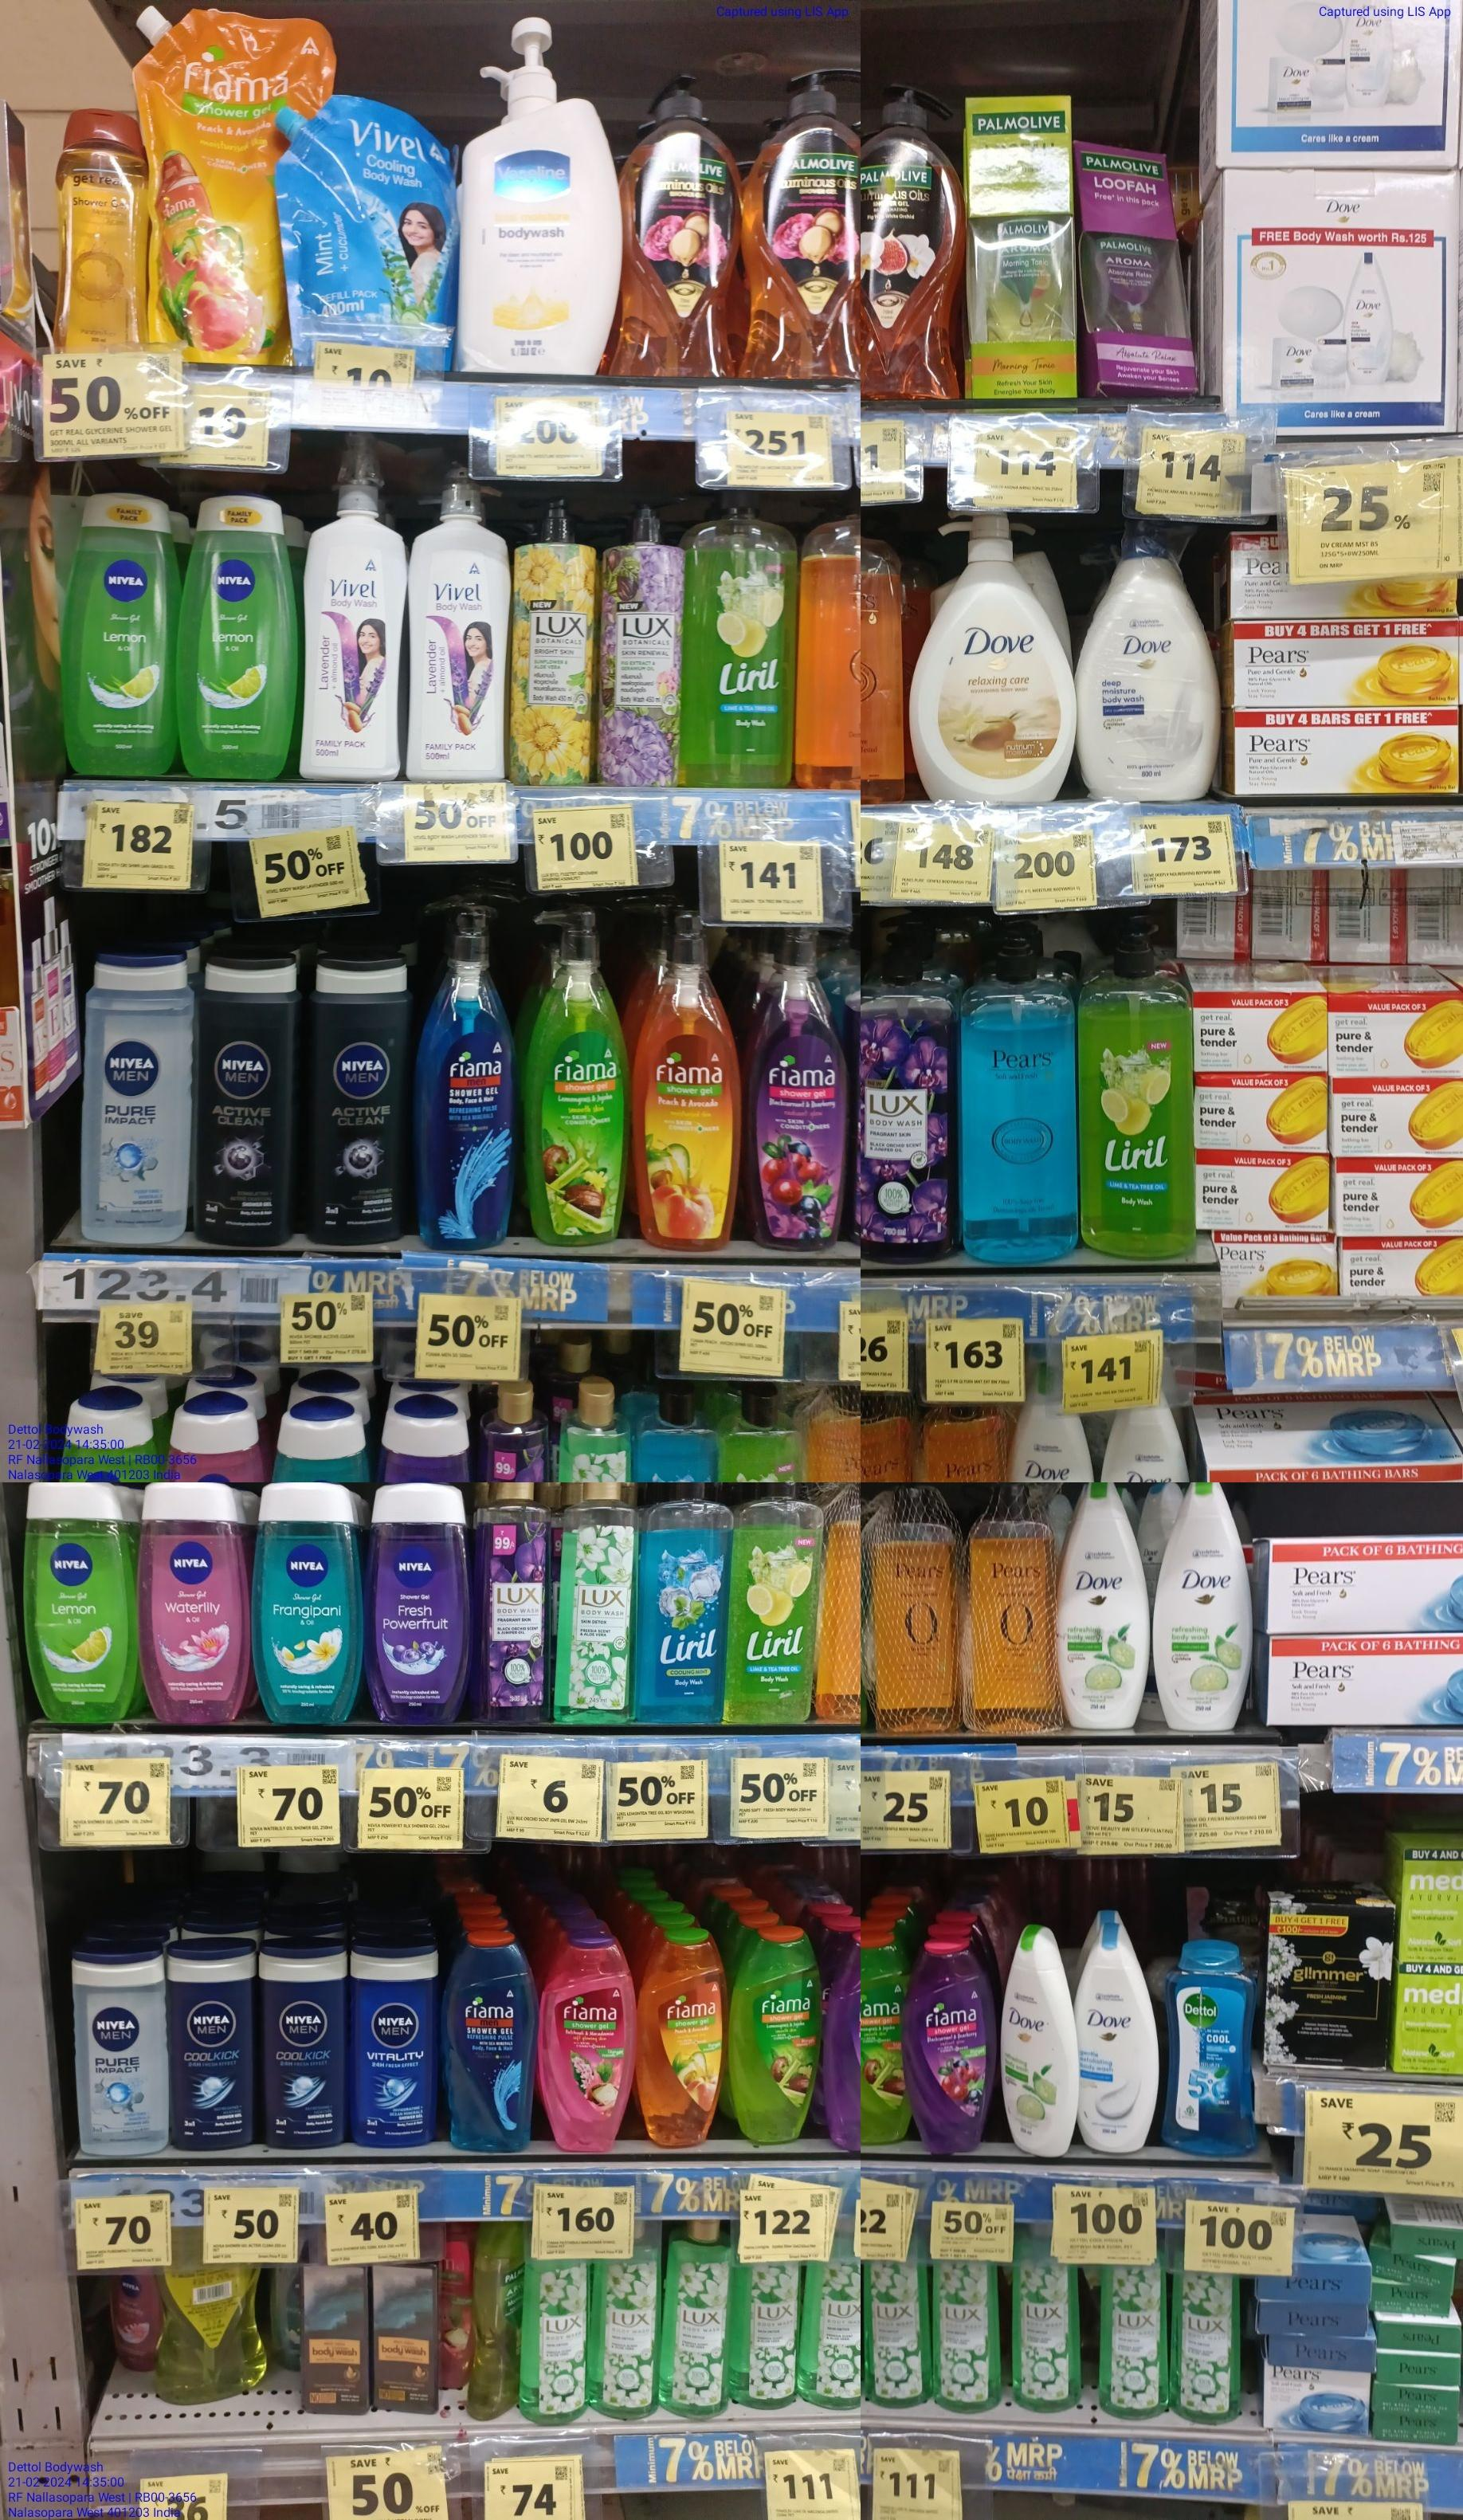Dettol_Bodywash_Cool: (1160, 1937, 1257, 2160)
Dove_Gentle_Exfoliating_Body_Wash_250ML: (1078, 1923, 1160, 2156)
Dove_Refreshing_Body_Wash_250ML: (1148, 1484, 1256, 1736), (1055, 1482, 1149, 1735), (998, 1924, 1076, 2160)
Fiama_Shower_Gel_Lemongrass_and_Jojoba_250ML: (726, 1924, 824, 2147)
Fiama_Shower_Gel_Patchouli_and_Macadamia_250ML: (538, 1931, 634, 2154)
Fiama_Shower_Gel_Peach_and_Avocado_250ML: (634, 1926, 725, 2146)
Get_Real_Shower_Gel_Moisturising_Glycerin_300ML: (47, 103, 148, 354)
Liril_Cooling_Mint_Body_Wash_250ML: (636, 1484, 731, 1724)
Liril_Lime_and_Tea_Tree_Oil_Body_Wash_250ML: (1078, 939, 1195, 1264), (730, 1482, 822, 1721)
Lux_Black_Orchid_Scent_and_Juniper_Oil_Body_Wash_245ML: (475, 1482, 552, 1724)
Lux_Body_Wash_Skin_Detox_Freesia_Scent_and_Alove_Vera_245ML: (552, 1482, 639, 1722), (662, 2220, 735, 2419), (517, 2259, 587, 2426), (1097, 2262, 1170, 2421), (930, 2259, 1001, 2417), (590, 2261, 660, 2419), (1010, 2261, 1082, 2414), (1172, 2273, 1244, 2426), (864, 2257, 934, 2409), (738, 2261, 799, 2409)
Nivea_Shower_Gel_Frangipani_and_Oil_250ML: (247, 1484, 364, 1721)
Nivea_Shower_Gel_Fresh_Powerfruit_250ML: (364, 1482, 475, 1726)
Nivea_Shower_Gel_Lemon_and_Oil_250ML: (174, 484, 300, 778), (56, 486, 169, 775), (21, 1482, 134, 1724)
Nivea_Shower_Gel_Waterlily_and_Oil_250ML: (136, 1482, 246, 1726)
Pears_Pure_Glycerin_and_Mint_Extracts_Body_Wash_250ML: (960, 942, 1078, 1270)
